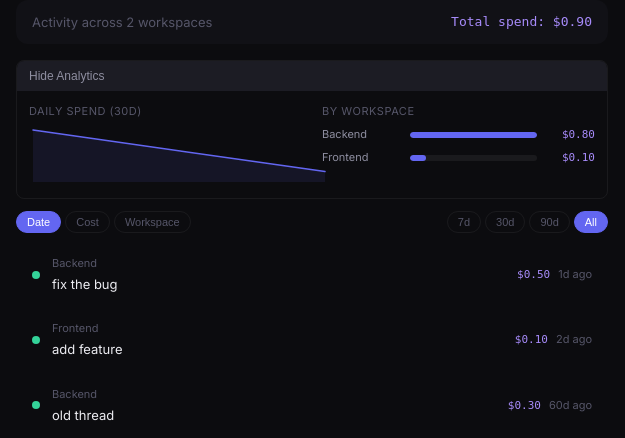
Test case: FeedView › analytics section is collapsible
This screenshot has width=625, height=438.
Click to hide
What coordinates should you click on to do the following:
click the button "Hide Analytics"
I would click on:
 (79, 76)
Its box is [17,61,607,91].
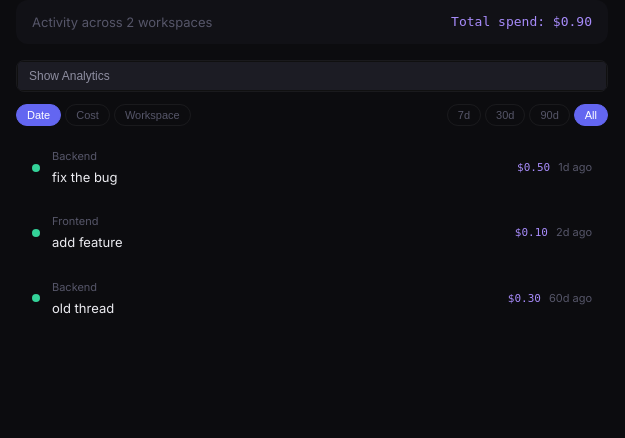
Result: the button "Show Analytics" is shown at [17,61,607,91]
